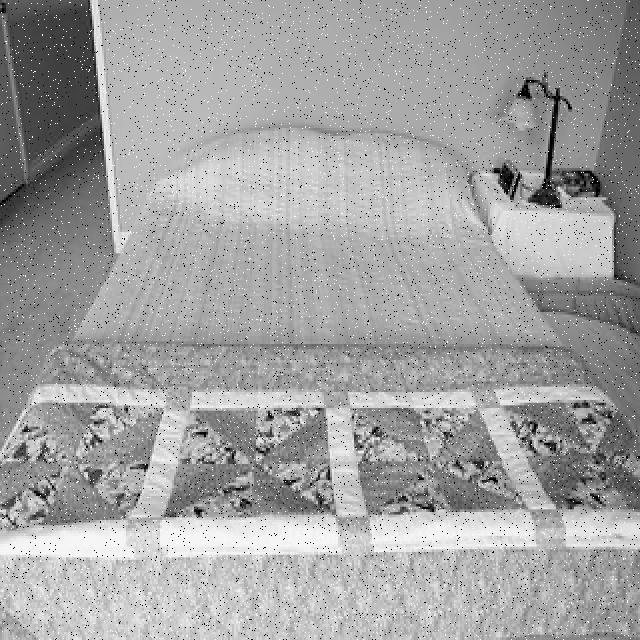bed: (31, 125, 618, 640)
